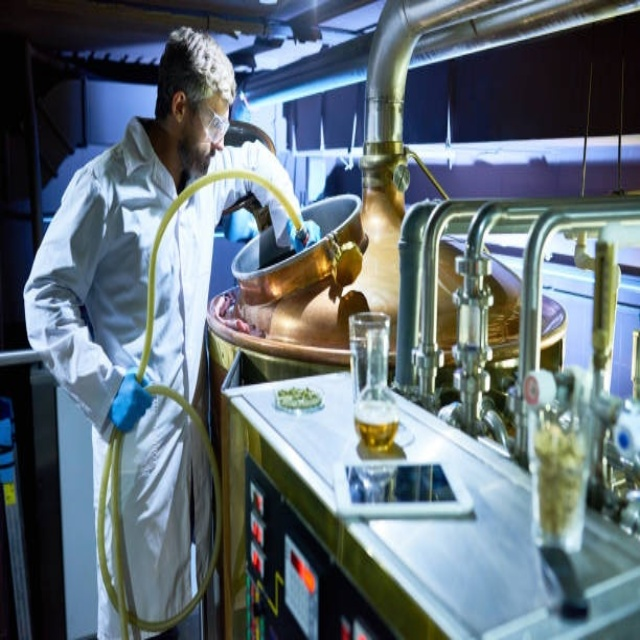Gafas: (193, 98, 231, 143)
Guantes: (109, 370, 152, 432), (288, 218, 322, 254)
Sin_mascara: (192, 144, 225, 176)
